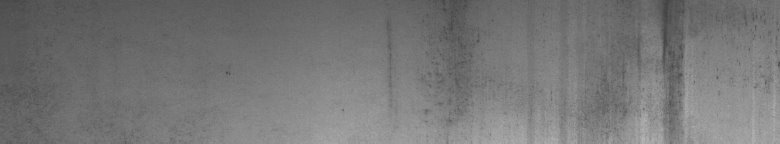ka: (656, 4, 762, 116)
